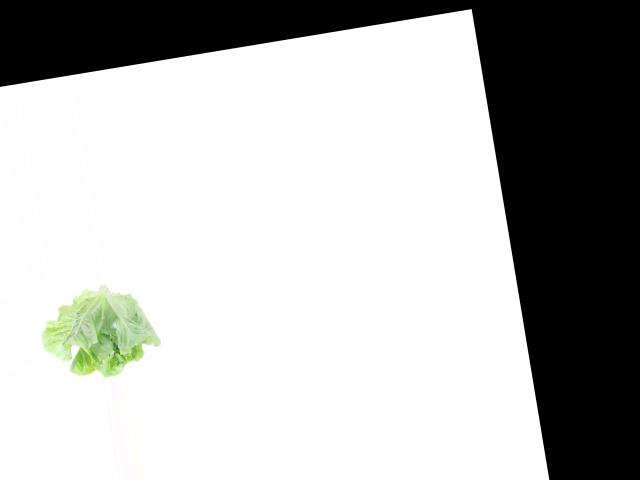lettuce: (36, 281, 166, 386)
